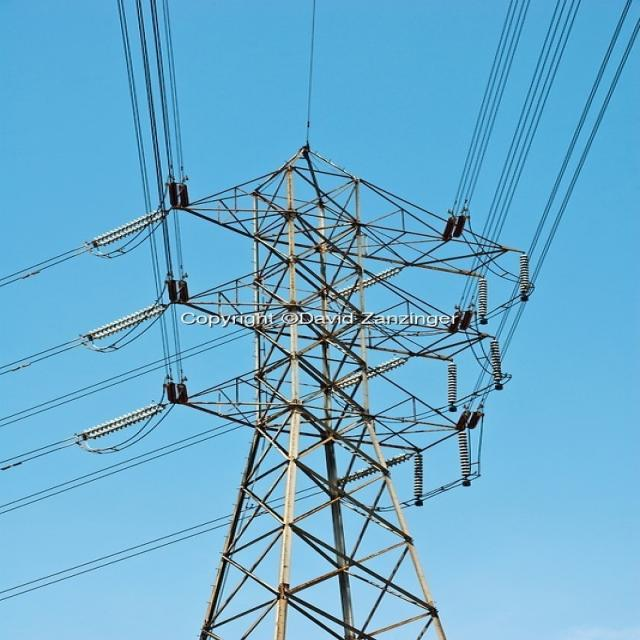non-critical vegetation: (101, 142, 534, 630)
